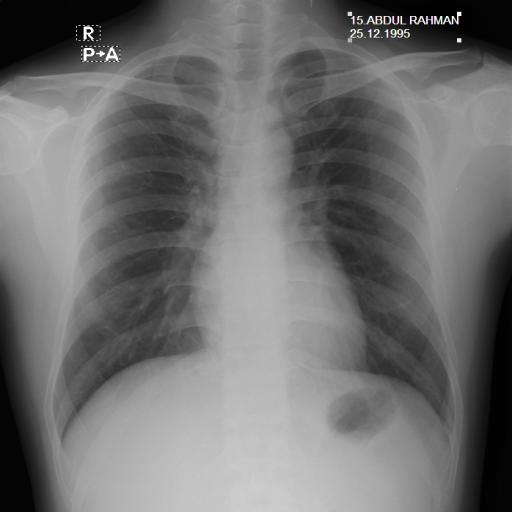normal: (44, 32, 466, 458)
